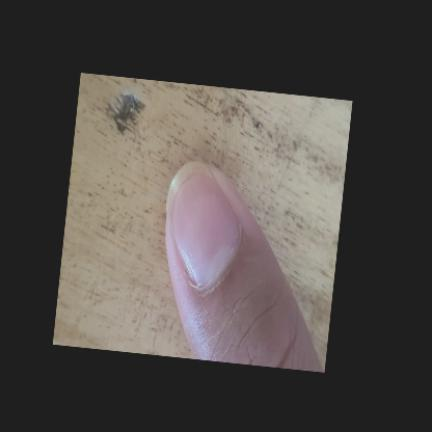Nail: (167, 161, 241, 289)
